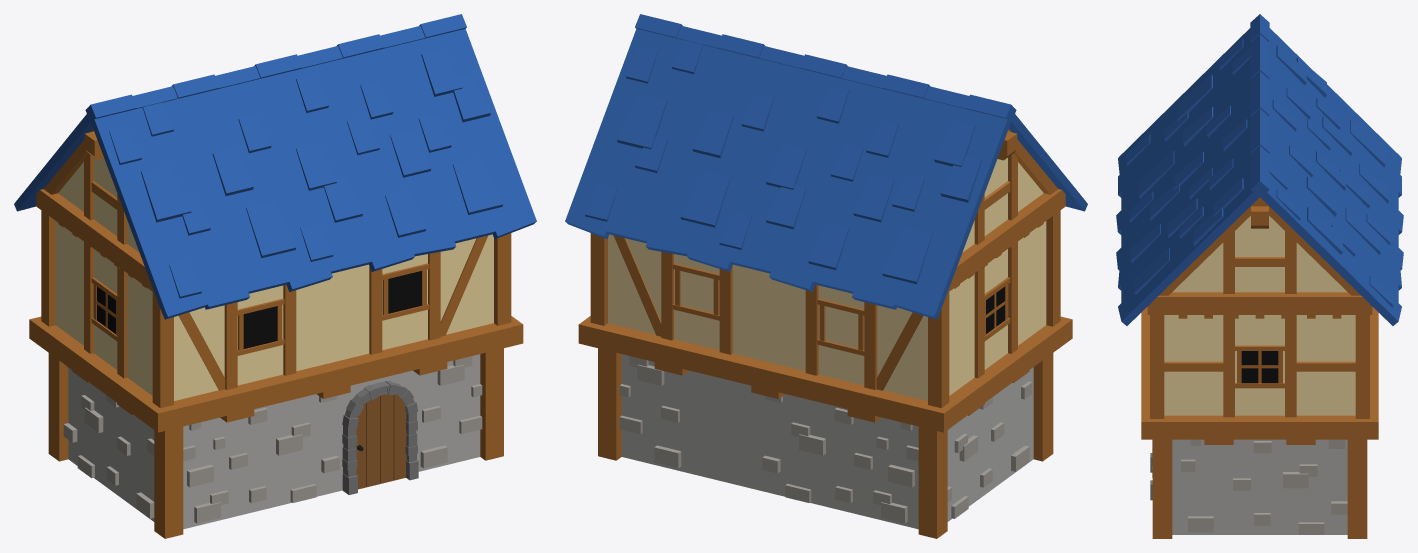
Rendered from TownHouse_02.fbx.
3 renders of one model, left to right at view 1: azimuth 30°, elevation 25°; view 2: azimuth 150°, elevation 25°; view 3: azimuth 270°, elevation 25°, orthographic. The views are drawn at different scales.
Visible parts, largest first — view 1: Cube.519; view 2: Cube.519; view 3: Cube.519.
Boxes of the visible parts, left/top/right/bottom form: Cube.519: left=14, top=14, right=536, bottom=538; Cube.519: left=565, top=14, right=1087, bottom=538; Cube.519: left=1116, top=14, right=1403, bottom=538.
Bounding box in the file's own units: 11.21 × 15.49 × 15.69.
